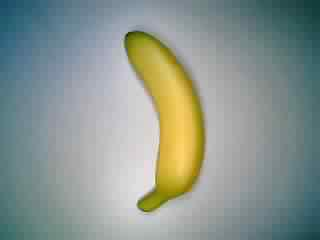banana: (117, 27, 214, 220)
